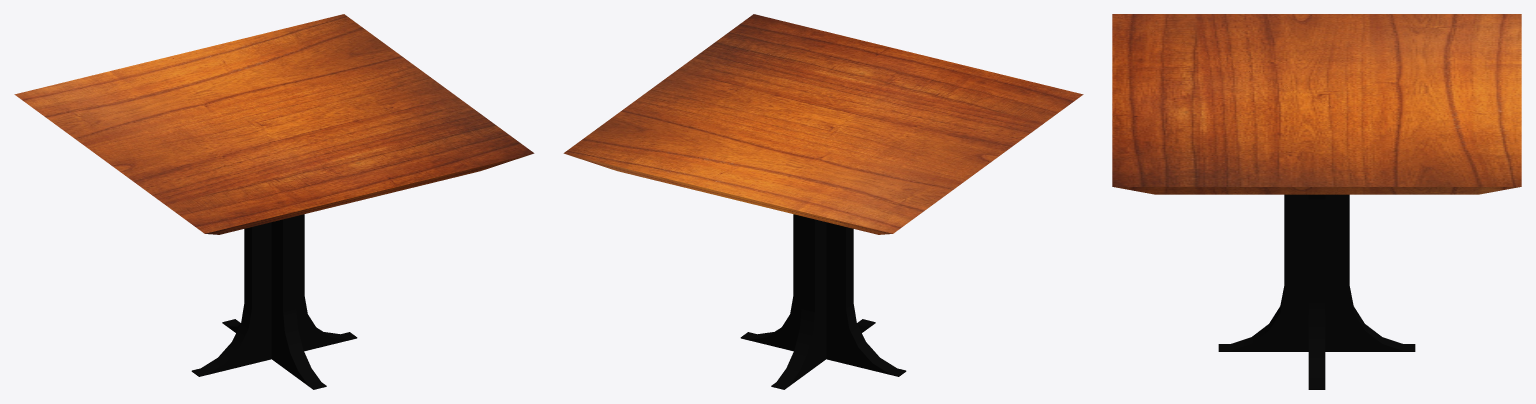
The model's file is table.obj.
3 views of the same model, side by side, from view 1: azimuth 30°, elevation 25°; view 2: azimuth 150°, elevation 25°; view 3: azimuth 270°, elevation 25° (orthographic). The views are drawn at different scales.
Parts seen in each view (by area): view 1: TableTop, Support, Support001; view 2: TableTop, Support, Support001; view 3: TableTop, Support001, Support.
Part boxes in pixels (x1,y1,x2,y2): TableTop: (14,14,534,234); Support: (191,214,357,376); Support001: (222,216,326,389); TableTop: (563,14,1083,234); Support: (740,214,906,376); Support001: (771,216,875,389); TableTop: (1112,14,1521,194); Support001: (1218,194,1415,351); Support: (1308,194,1325,389).
Bounding box in the file's own units: 25 × 16.73 × 25.
